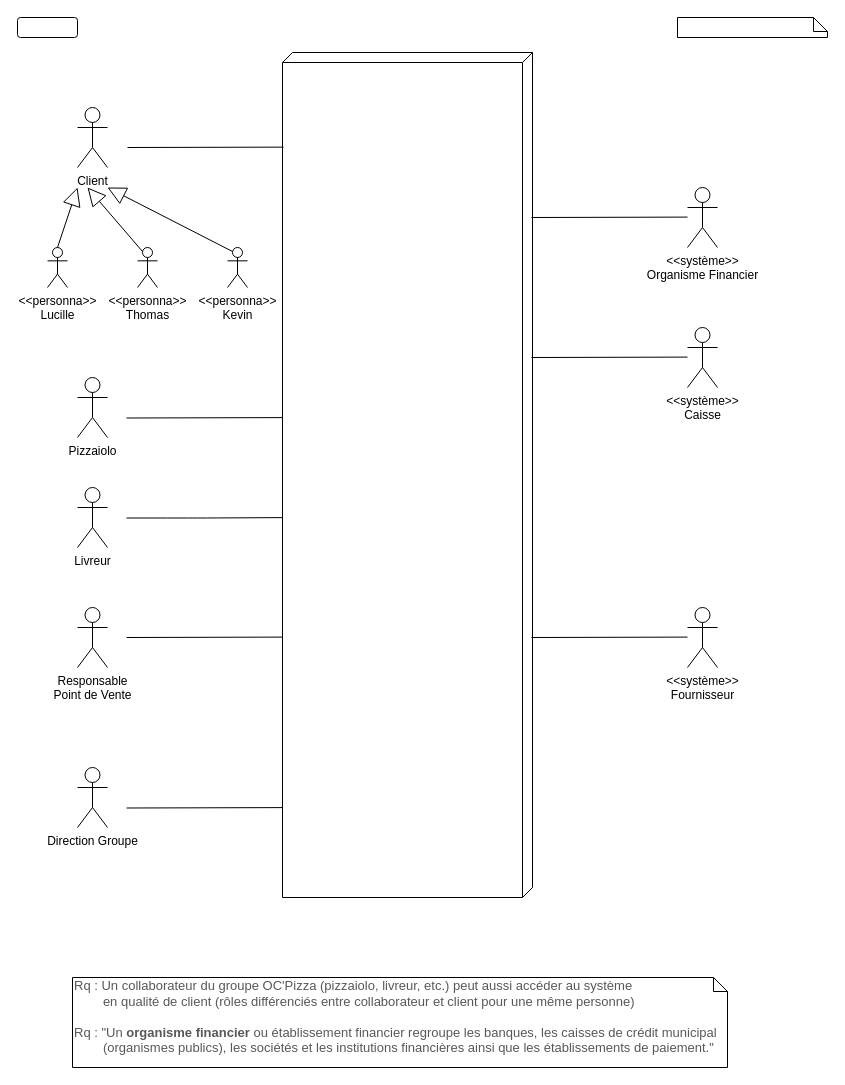
Some shapes in this 845 by 1085 pixel diagram are drawn without their labels. The shapes that lost their labels are listed below. From the top down, each one's centre as x and y in pixels, then its label:
the point at 47,27: OC'Pizza
the point at 752,27: Diagramme de Contexte
the point at 407,475: Système
